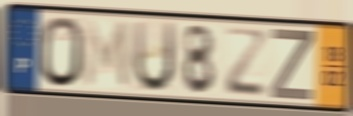8: (182, 23, 218, 97)
M: (83, 17, 132, 92)
O: (39, 14, 85, 90)
U: (131, 18, 179, 95)
Z: (269, 26, 315, 104), (224, 25, 268, 100)
